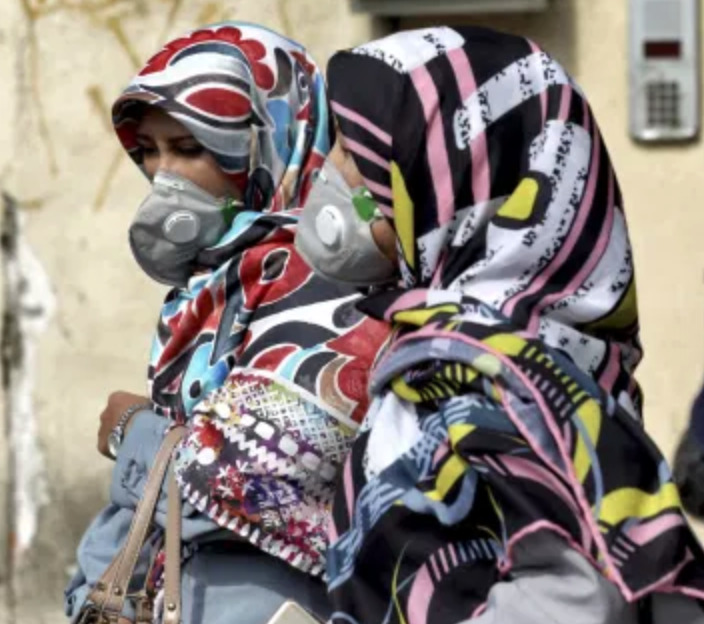Bad: (66, 20, 638, 624)
